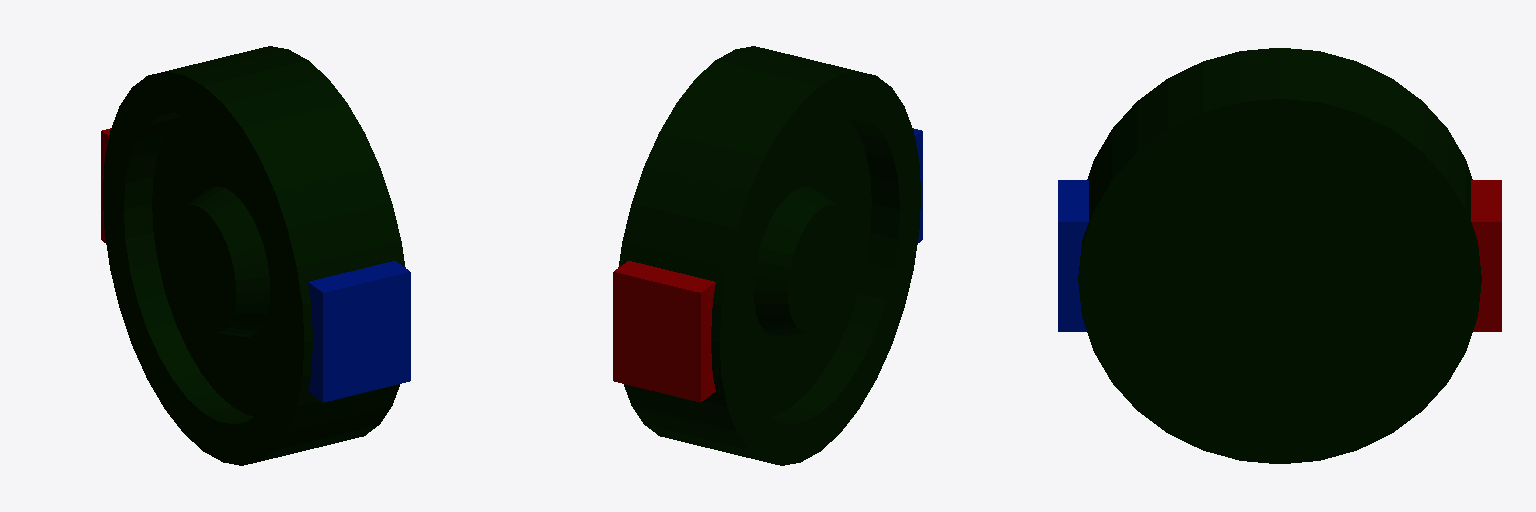
Rendered from Servo.obj.
The picture shows the model from 3 angles: view 1: azimuth 30°, elevation 25°; view 2: azimuth 150°, elevation 25°; view 3: azimuth 270°, elevation 25°; orthographic projection.
Visible parts, largest first — view 1: Handle1, Forwards1; view 2: Handle1, Backwards1; view 3: Handle1, Forwards1, Backwards1.
Part boxes in pixels (x1,y1,x2,y2): Handle1: (103,46,405,465); Forwards1: (308,261,410,402); Handle1: (618,46,920,465); Backwards1: (613,261,715,402); Handle1: (1078,48,1481,463); Forwards1: (1058,180,1088,331); Backwards1: (1471,180,1501,331).
Bounding box in the file's own units: 0.3 × 1 × 1.1.